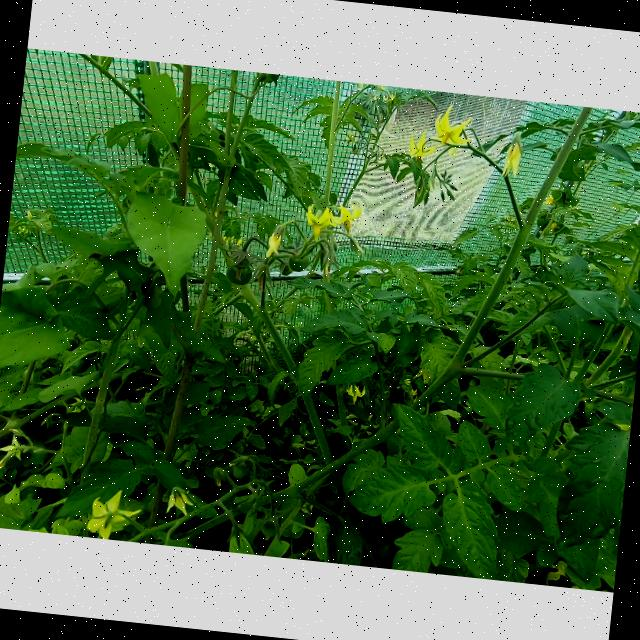Flowers: (84, 486, 142, 542), (428, 102, 476, 160), (0, 423, 35, 476), (301, 203, 341, 246), (500, 131, 525, 179), (402, 130, 438, 163), (162, 485, 197, 516), (337, 200, 365, 234), (262, 225, 286, 259), (344, 381, 367, 405), (401, 376, 418, 396), (220, 235, 243, 248), (542, 194, 554, 206), (25, 209, 32, 219)
